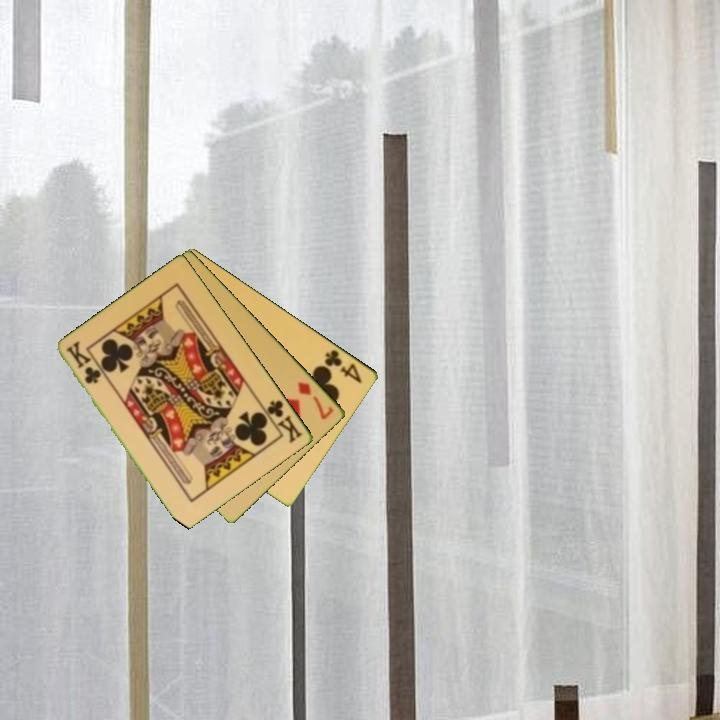4c: (321, 346, 365, 386)
7d: (294, 378, 337, 423)
Kc: (259, 396, 306, 446), (63, 339, 103, 387)
